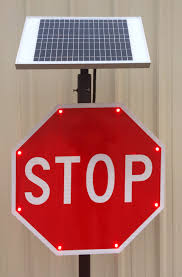SS: (13, 107, 167, 255)
